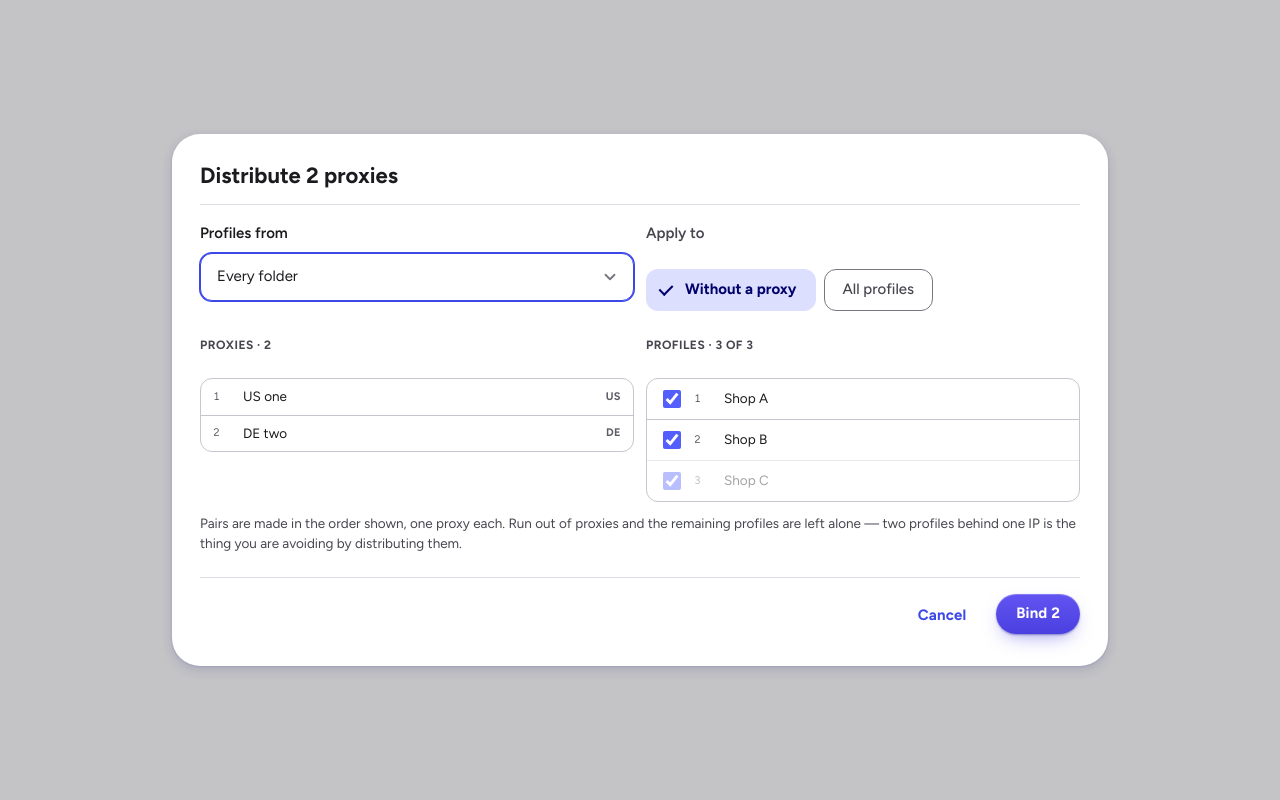
Test: ProxyDistributeModal › follows the folder filter and lets a profile be skipped
Select "Ads" in the dropdown labelled "Profiles from" at [417, 277], box [200,253,634,301]
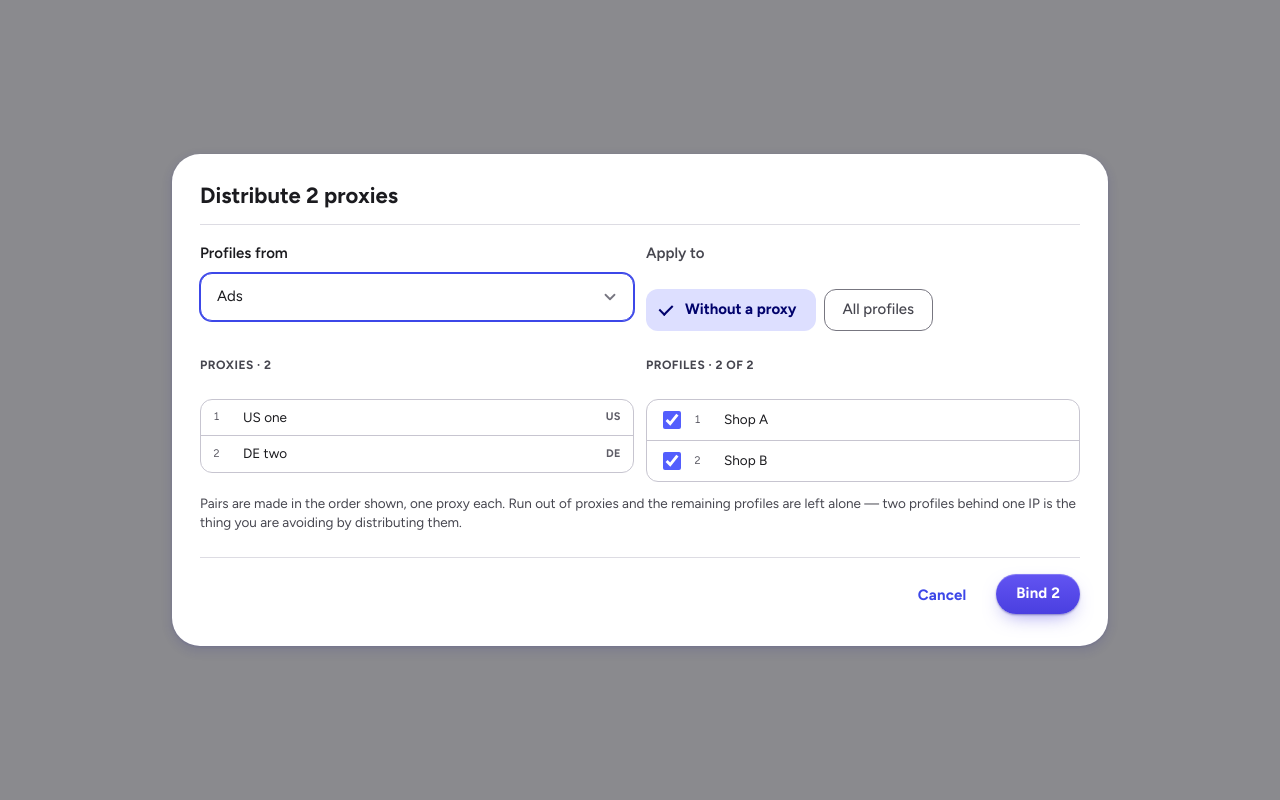
Now the text "Profiles · 2 of 2" is shown, box [646,358,754,372]
Now the text "Shop C" is gone
Click the checkbox labelled "1 Shop A" at [672, 420], box [663,410,681,428]
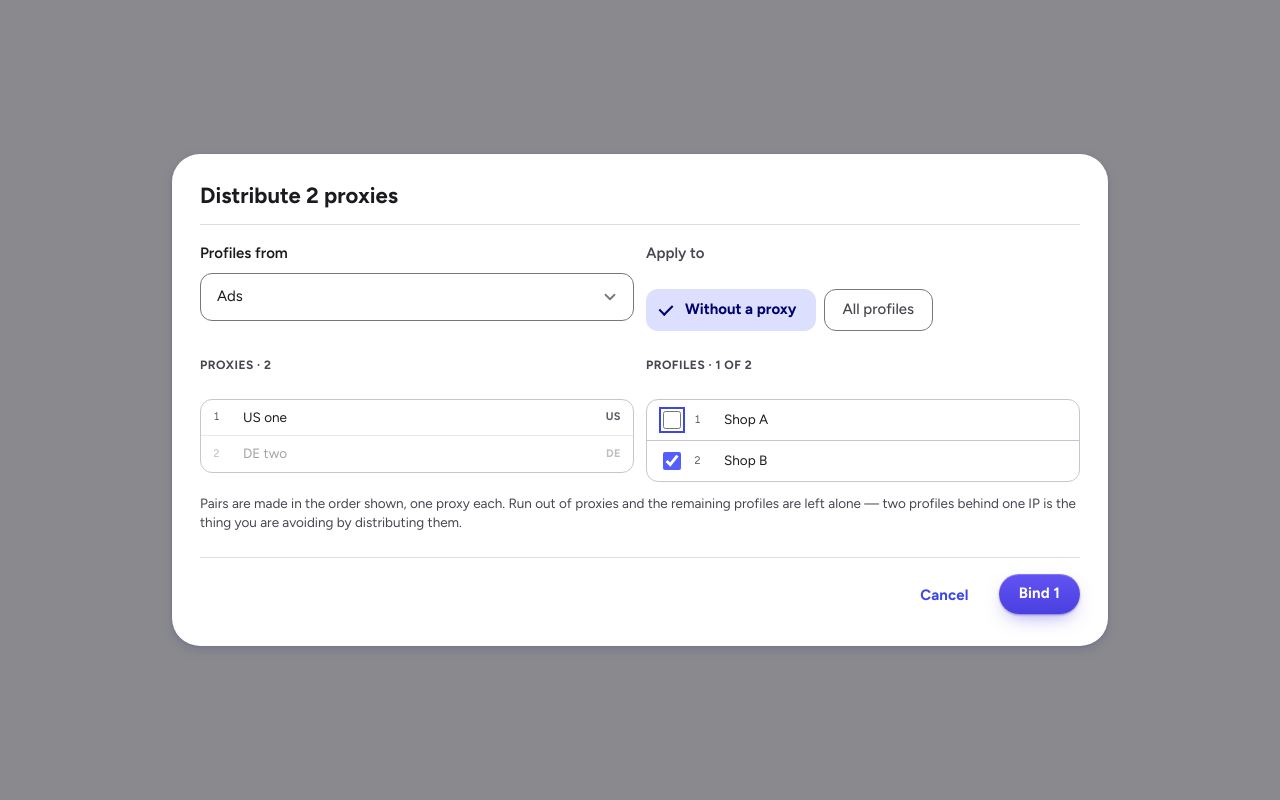
Expected: the button "Bind 1" is enabled, [999,574,1080,614]
Now the text "Profiles · 1 of 2" is shown, box [646,358,752,372]
